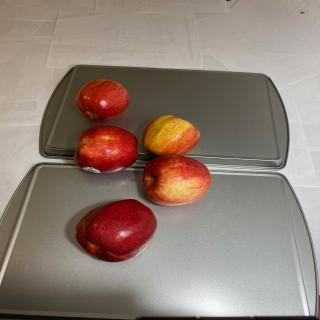Apple: (75, 198, 157, 262), (142, 154, 212, 207), (74, 125, 138, 174), (142, 115, 201, 156), (75, 79, 130, 122)
